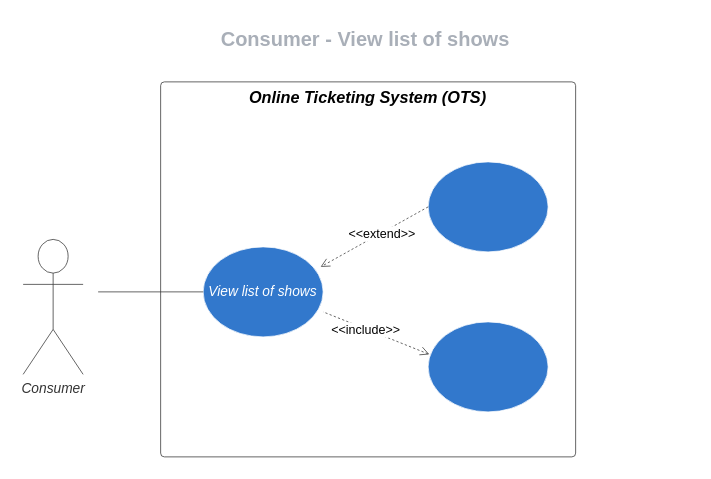
Image size: 711x479. Some labels were removed from this diagram. The centre of each missing label's shape, as x and y in pixels:
"Filter shows by date range" belongs at [487,206].
"Sign in to account" belongs at [487,366].
